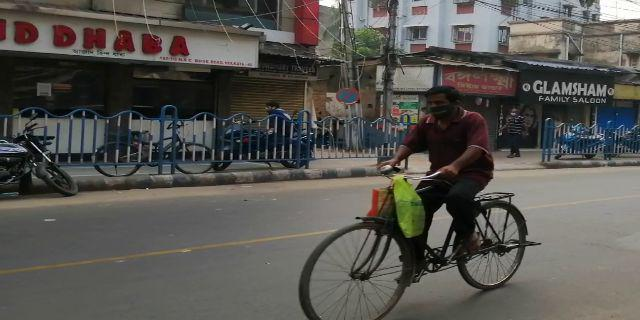Cycle: (298, 87, 538, 320)
